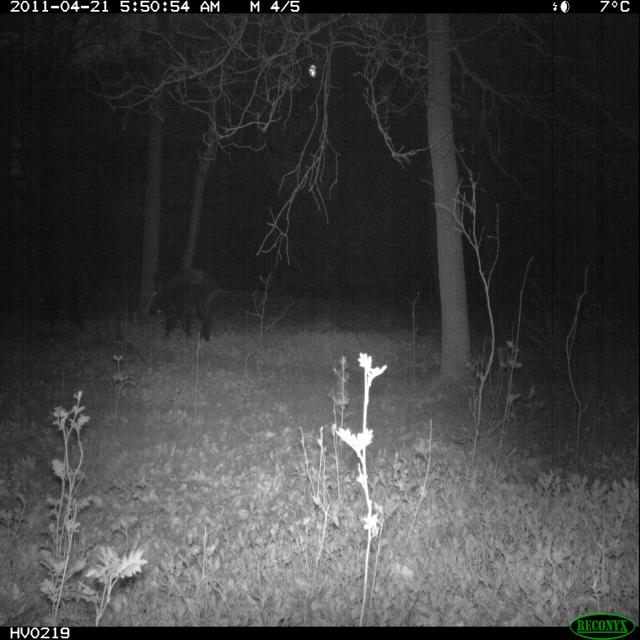boar: (124, 254, 242, 356)
